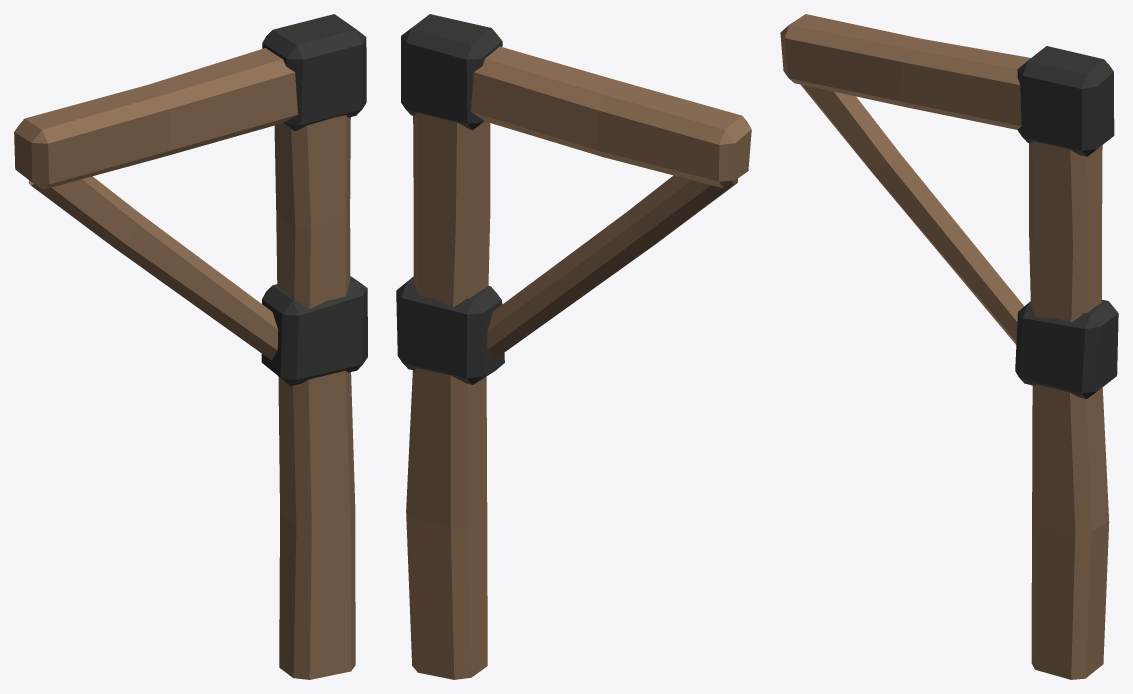
File: wooden pilar.fbx
The picture shows the model from 3 angles, left to right: view 1: azimuth 30°, elevation 25°; view 2: azimuth 150°, elevation 25°; view 3: azimuth 330°, elevation 25°; orthographic projection. The views are drawn at different scales.
Parts seen in each view (by area): view 1: woodenpilar_LOD0; view 2: woodenpilar_LOD0; view 3: woodenpilar_LOD0.
Boxes of the visible parts, bbox=[...] form: woodenpilar_LOD0: bbox=[14, 14, 367, 679]; woodenpilar_LOD0: bbox=[396, 14, 751, 679]; woodenpilar_LOD0: bbox=[780, 14, 1118, 679].
Size of what is drawn, in the model's own units: 2 by 3.62 by 0.3527.
